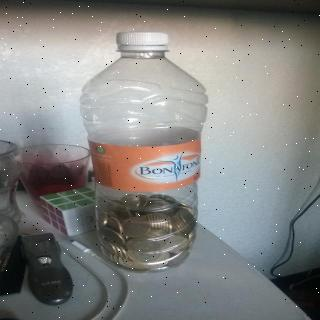Plastic-bottle: (72, 28, 214, 280)
